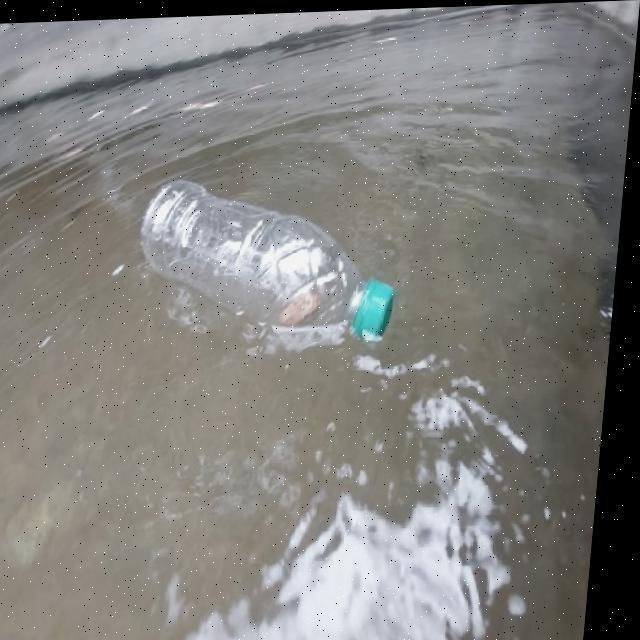Bottle: (131, 174, 405, 346)
